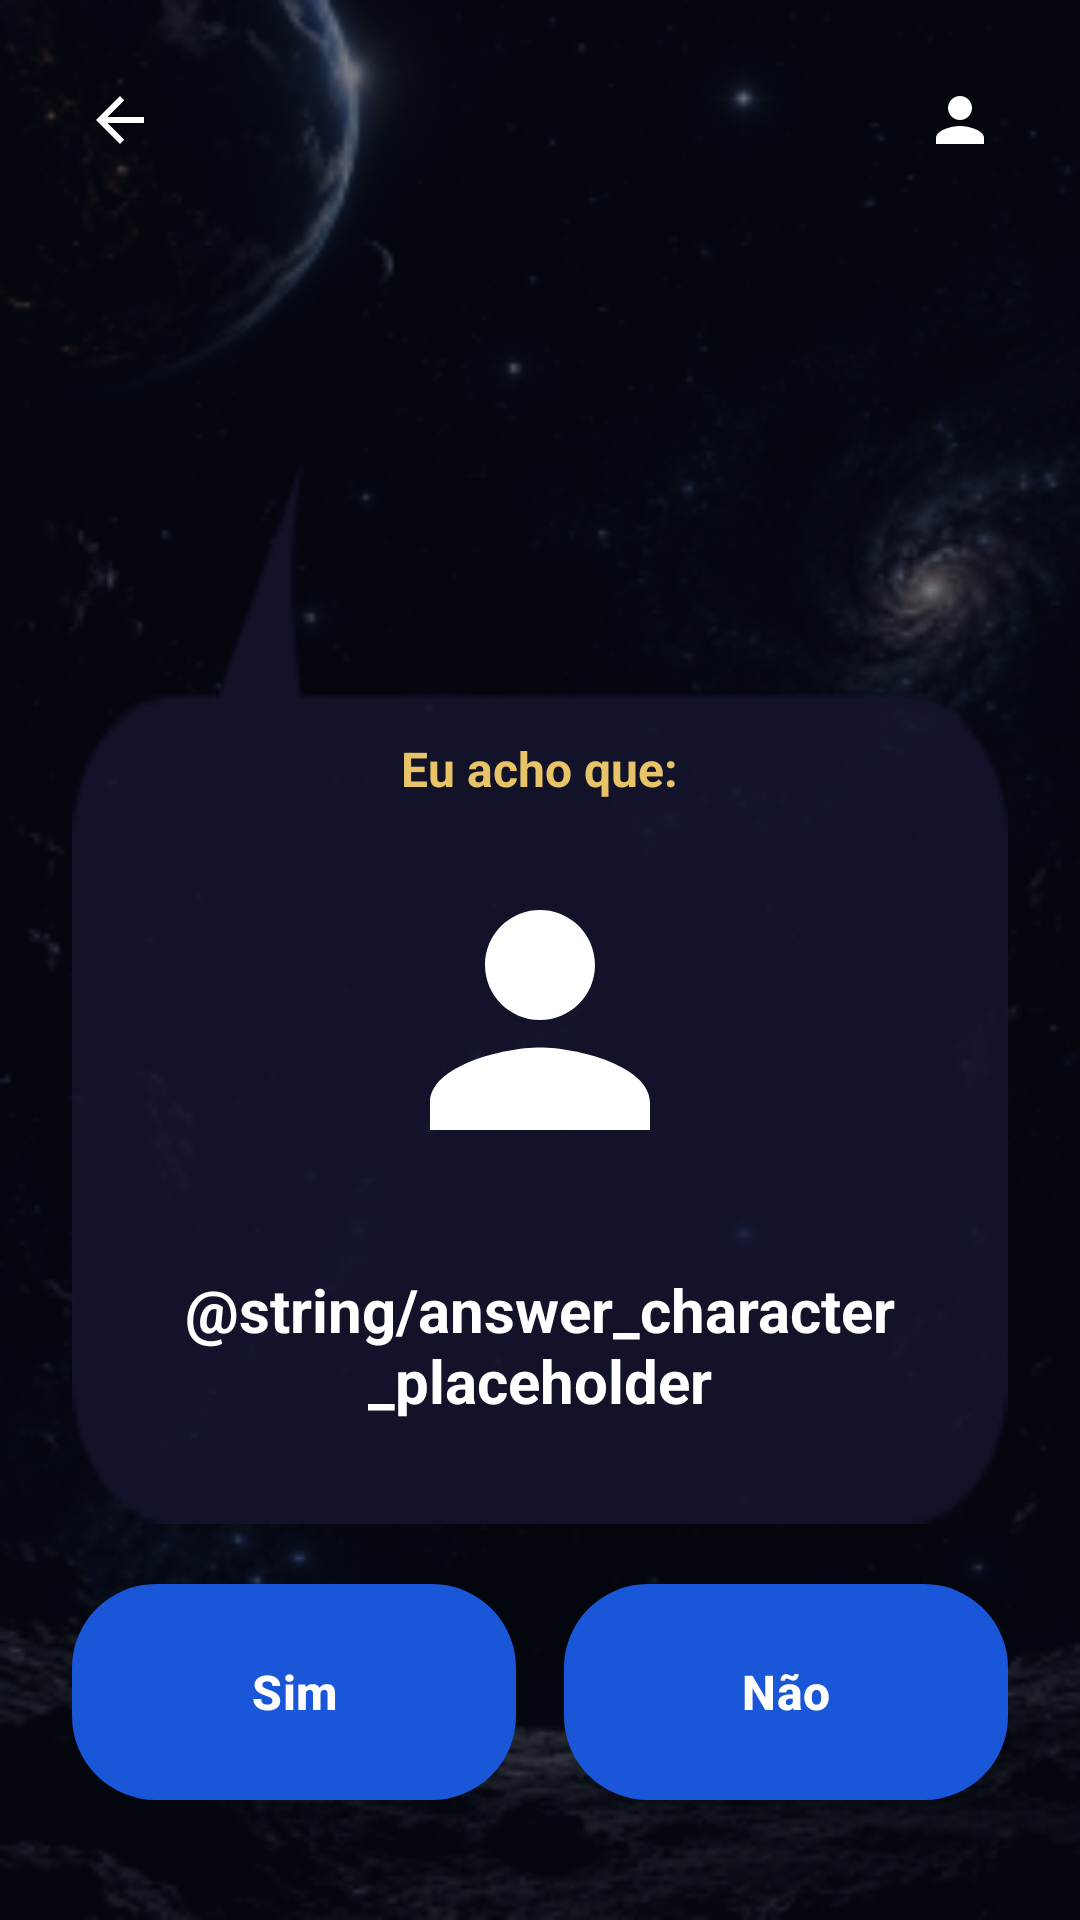

Where icons sit on this 1080x1920 app screen, as BBox(x1, y1, x2, y2):
Perfil: BBox(910, 96, 984, 178)
Voltar: BBox(96, 81, 144, 174)
